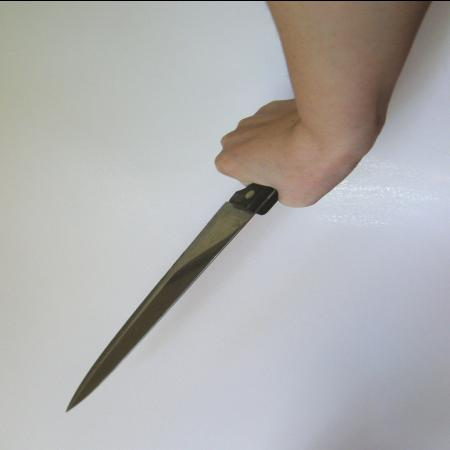long weapon: (55, 135, 325, 415)
